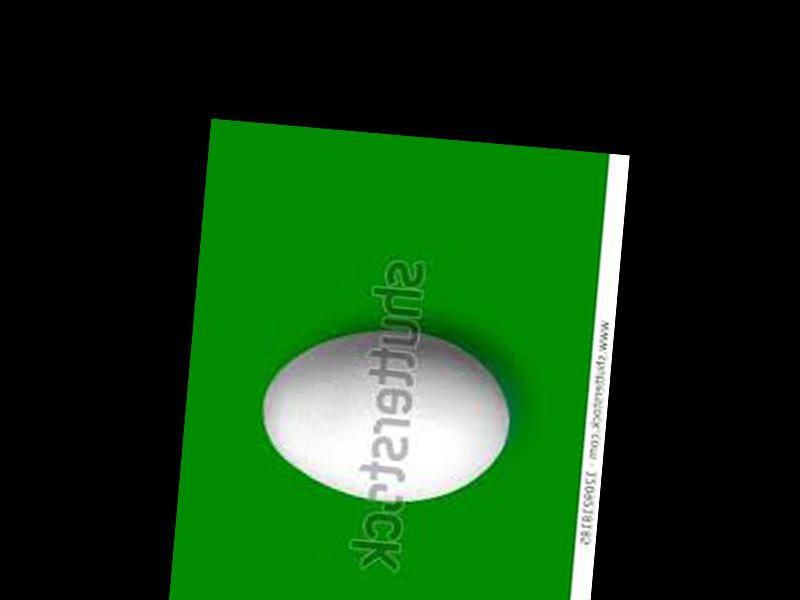Eggs: (255, 318, 514, 510)
